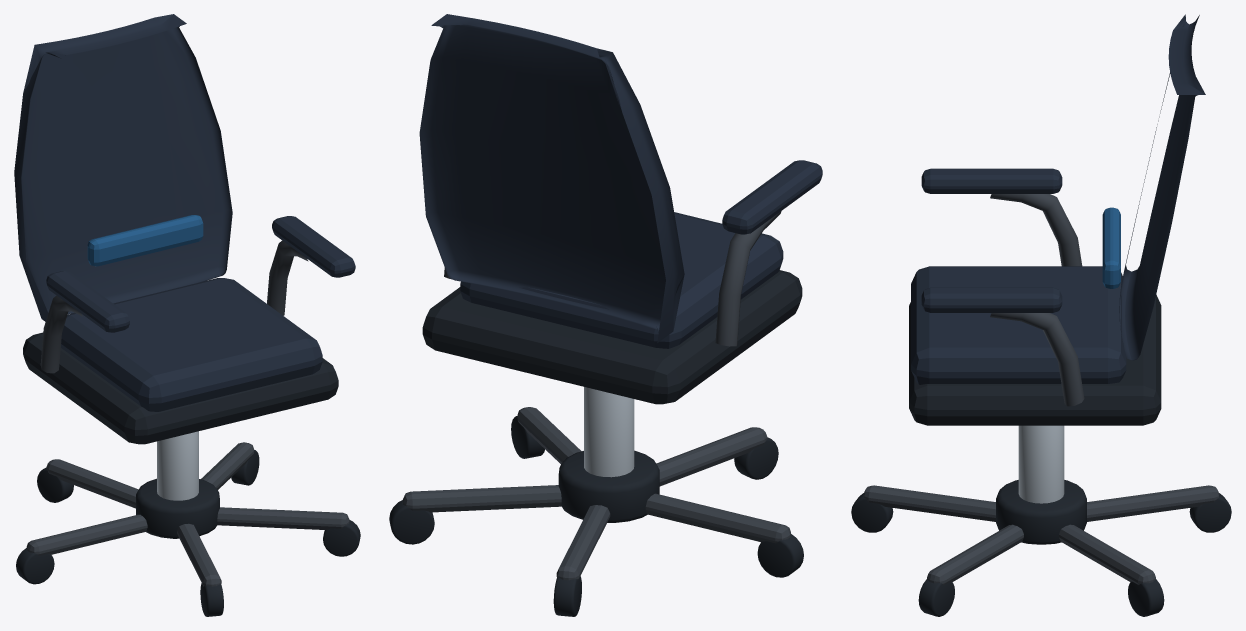
The model's file is office-chair-blender.glb.
The picture shows the model from 3 angles, left to right: view 1: azimuth 30°, elevation 25°; view 2: azimuth 150°, elevation 25°; view 3: azimuth 270°, elevation 25°; orthographic projection. The views are drawn at different scales.
Parts seen in each view (by area): view 1: chair · Midnight leather, chair · Soft black, chair · Graphite metal, chair · Deep blue fabric, chair · Brushed aluminum; view 2: chair · Midnight leather, chair · Soft black, chair · Graphite metal, chair · Brushed aluminum; view 3: chair · Midnight leather, chair · Soft black, chair · Graphite metal, chair · Brushed aluminum, chair · Deep blue fabric.
Part boxes in pixels (bbox=[...]): chair · Midnight leather: bbox=[14, 14, 355, 411]; chair · Soft black: bbox=[16, 332, 360, 616]; chair · Graphite metal: bbox=[26, 240, 349, 586]; chair · Deep blue fabric: bbox=[87, 215, 203, 266]; chair · Brushed aluminum: bbox=[157, 431, 198, 500]; chair · Midnight leather: bbox=[419, 14, 822, 348]; chair · Soft black: bbox=[389, 270, 803, 616]; chair · Graphite metal: bbox=[402, 211, 790, 580]; chair · Brushed aluminum: bbox=[584, 387, 634, 477]; chair · Midnight leather: bbox=[911, 14, 1205, 384]; chair · Soft black: bbox=[851, 295, 1231, 616]; chair · Graphite metal: bbox=[863, 194, 1219, 584]; chair · Brushed aluminum: bbox=[1018, 425, 1064, 503]; chair · Deep blue fabric: bbox=[1102, 207, 1120, 288].
Bounding box in the file's own units: 0.8756 × 1.34 × 0.9196.
